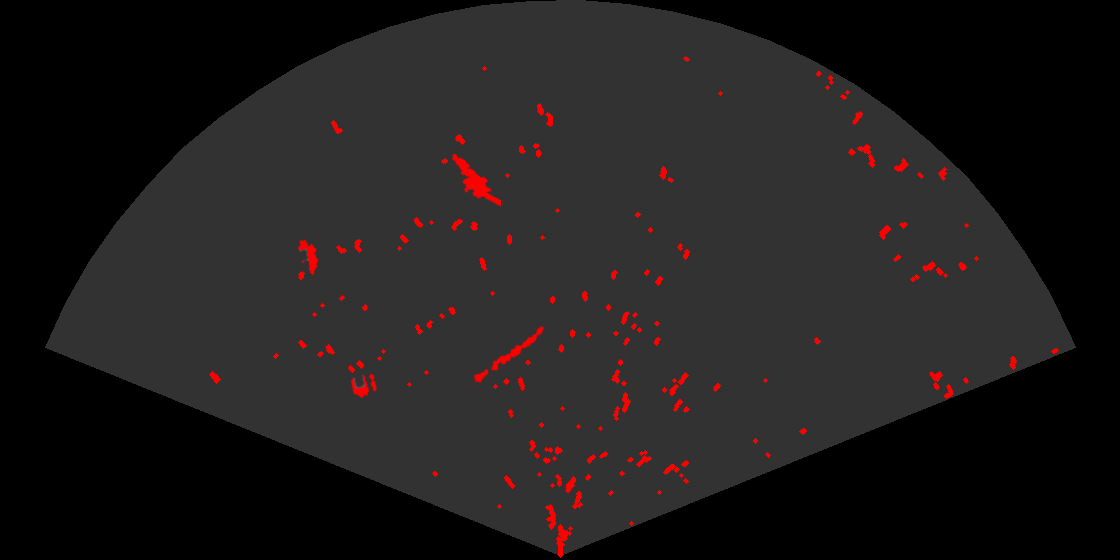AUV: (296, 238, 320, 277)
ball: (349, 372, 378, 399)
chain: (468, 324, 546, 388)
frogman: (450, 152, 501, 208)
